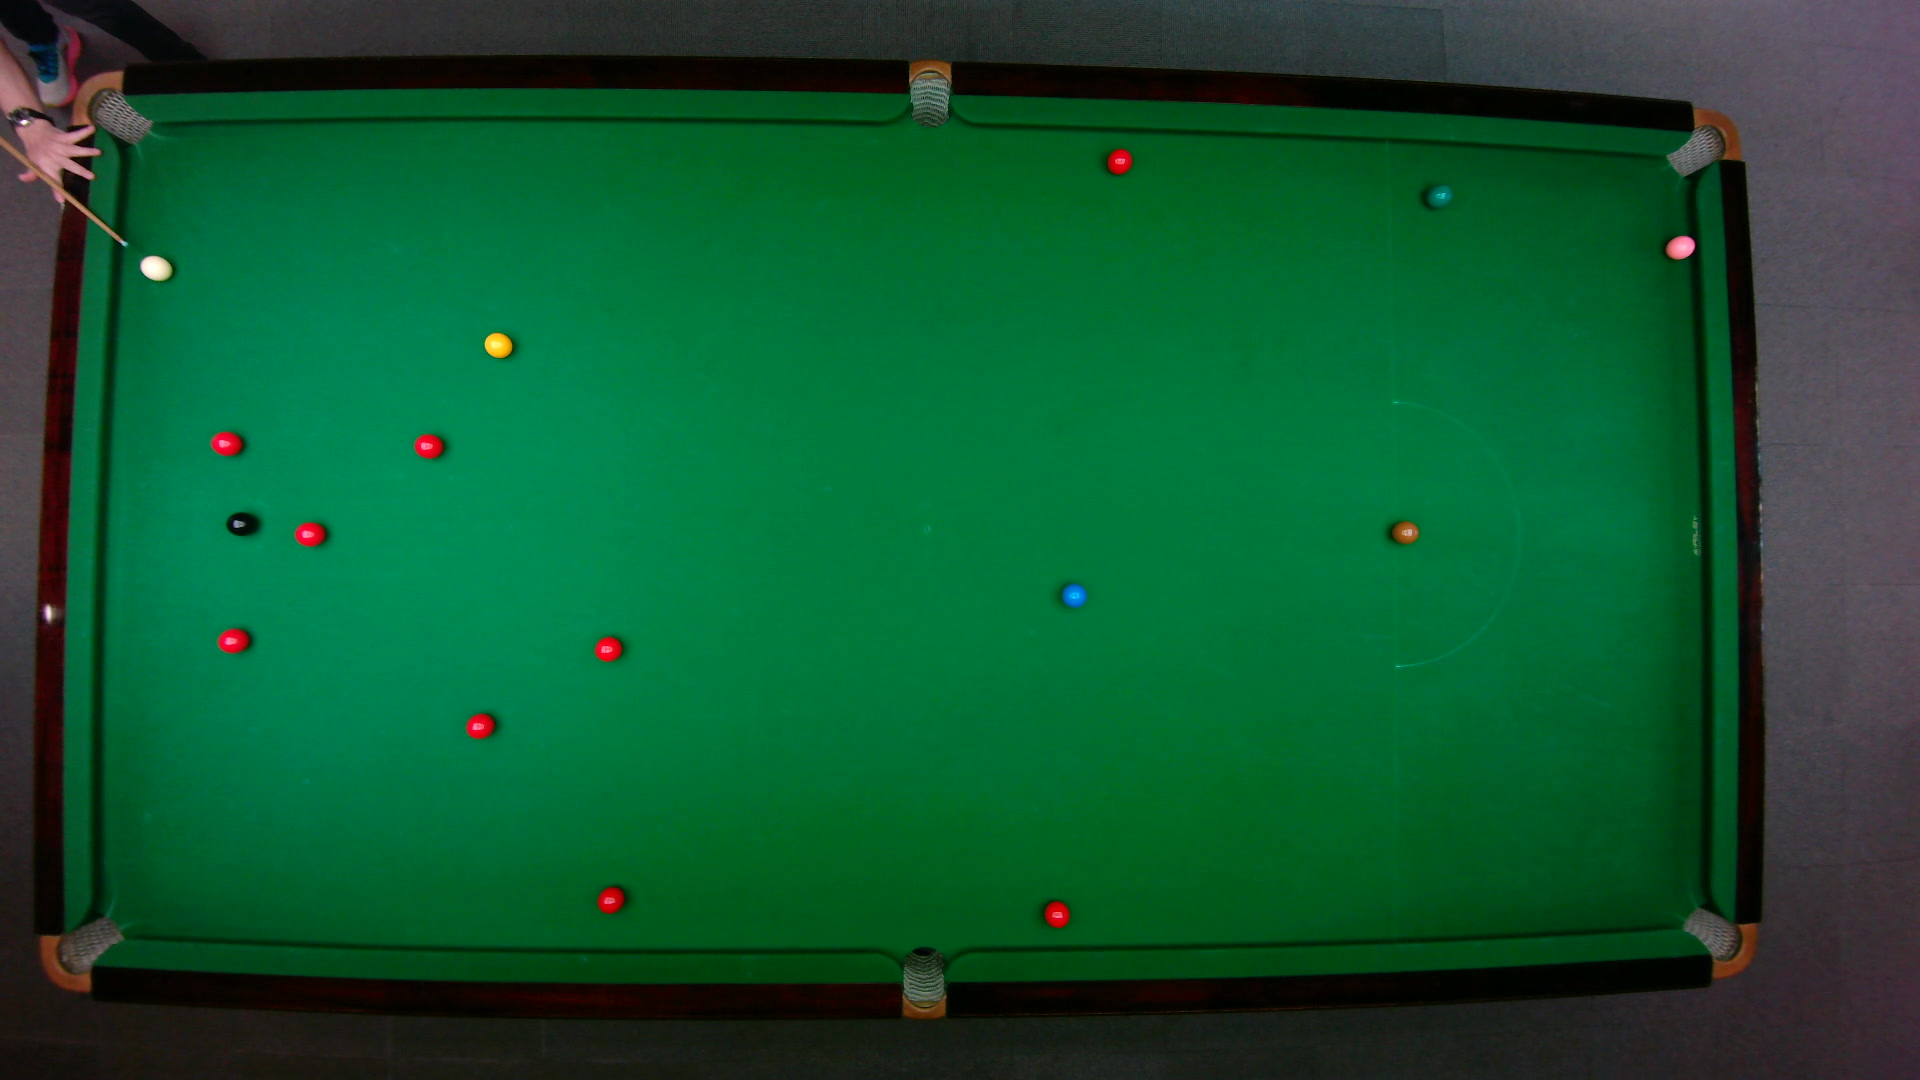bag: (37, 913, 125, 992), (70, 69, 153, 145), (1677, 905, 1756, 978), (1663, 107, 1741, 177), (899, 943, 944, 1019), (909, 57, 949, 128)
black: (223, 509, 257, 535)
blue: (1059, 582, 1087, 608)
brown: (1389, 520, 1419, 545)
cue: (0, 125, 127, 247)
green: (1423, 182, 1453, 208)
pink: (1663, 232, 1697, 260)
red: (208, 429, 244, 456), (215, 625, 251, 653), (291, 520, 326, 547), (595, 884, 625, 914), (463, 711, 495, 738), (411, 433, 444, 459), (1104, 146, 1133, 175), (1043, 899, 1071, 928), (593, 634, 622, 662)
white: (137, 253, 174, 282)
yellow: (481, 328, 514, 359)
zone: (1390, 398, 1520, 667)
